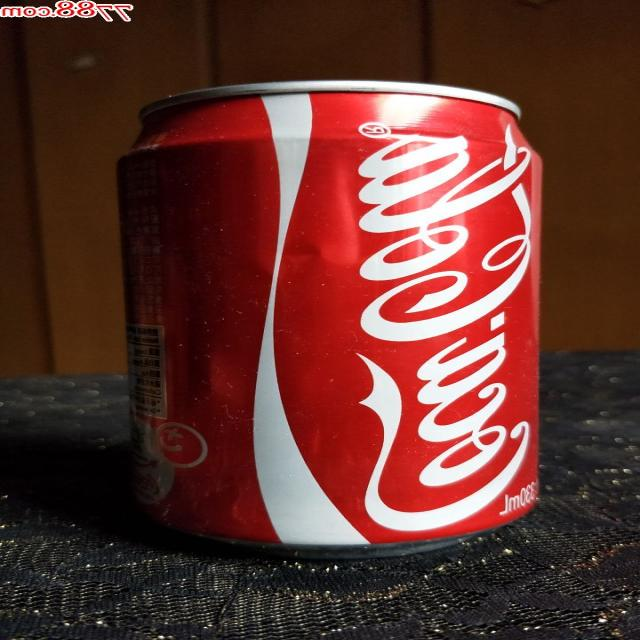metal: (120, 82, 542, 556)
